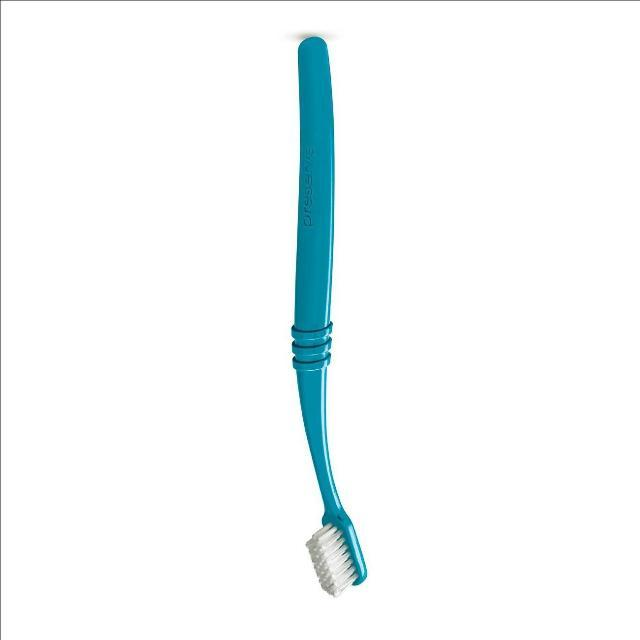toothbrush: (254, 18, 411, 622)
